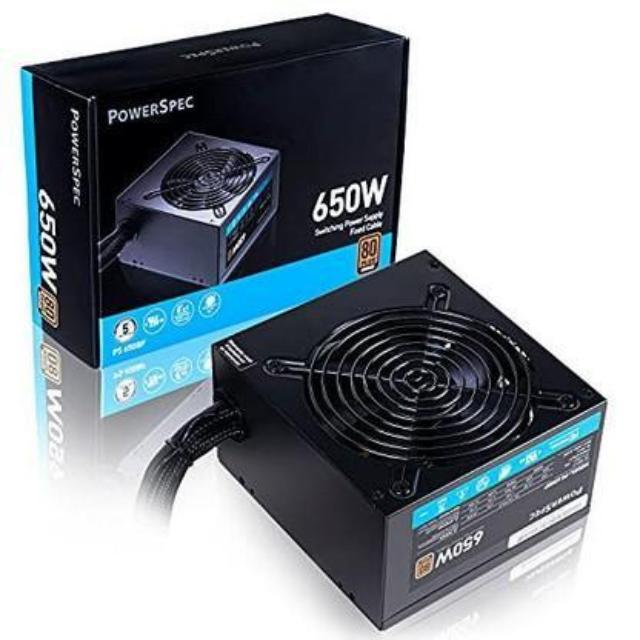PSU: (195, 240, 610, 631)
